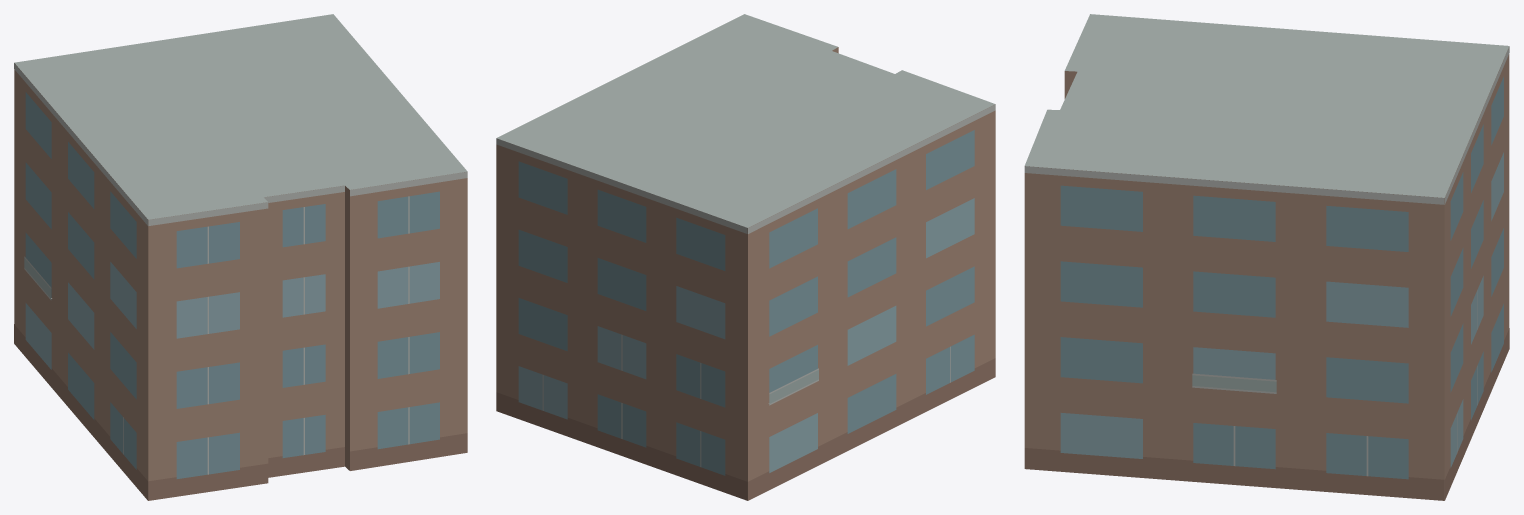
File: survey-upis-32960841.glb
3 views of the same model, side by side, from view 1: azimuth 30°, elevation 25°; view 2: azimuth 150°, elevation 25°; view 3: azimuth 270°, elevation 25° (orthographic). The views are drawn at different scales.
Visible parts, largest first — view 1: survey-upis-32960841.tmp; view 2: survey-upis-32960841.tmp; view 3: survey-upis-32960841.tmp.
Part boxes in pixels (x1,y1,x2,y2): survey-upis-32960841.tmp: (14,14,467,500); survey-upis-32960841.tmp: (496,14,995,500); survey-upis-32960841.tmp: (1024,14,1509,500).
Size of the model in its own units: 13.93 by 10.69 by 15.52.
